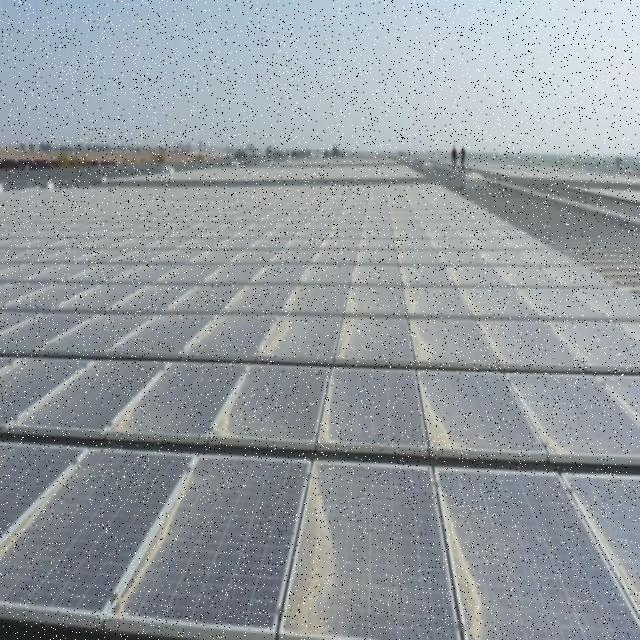dusty: (281, 465, 333, 637), (439, 485, 483, 638), (418, 374, 461, 450), (334, 282, 354, 357)
